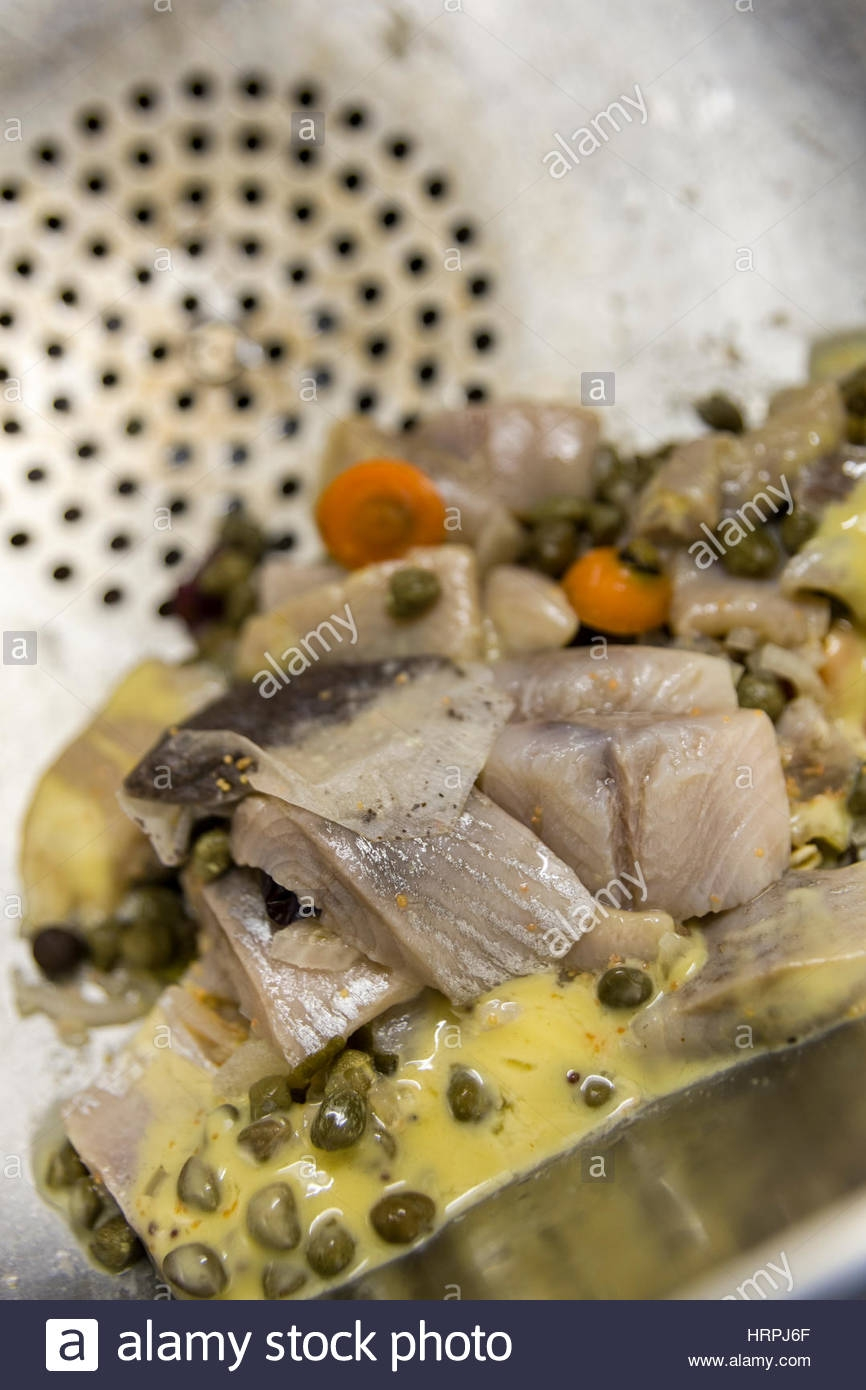kitchen_waste: (111, 628, 865, 1069), (302, 449, 482, 580), (557, 522, 702, 640), (297, 1038, 401, 1163), (218, 1069, 312, 1165), (345, 1173, 451, 1255), (159, 1142, 247, 1228), (151, 1235, 248, 1306), (235, 1175, 317, 1258), (424, 1059, 515, 1132), (575, 958, 667, 1023)
